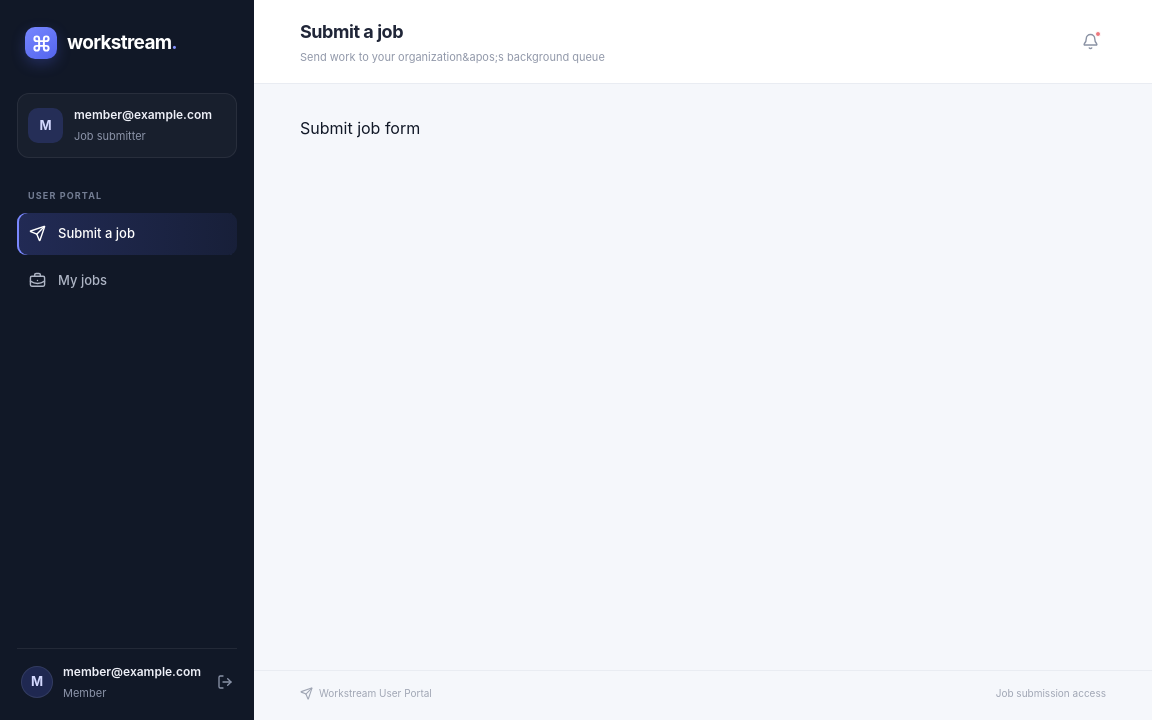
Test: MemberShell completion notifications › shows a completion toast and notification for the job owner only
The image size is (1152, 720).
Click the button named "Notifications".
click(1090, 42)  # box [1074,26,1106,58]
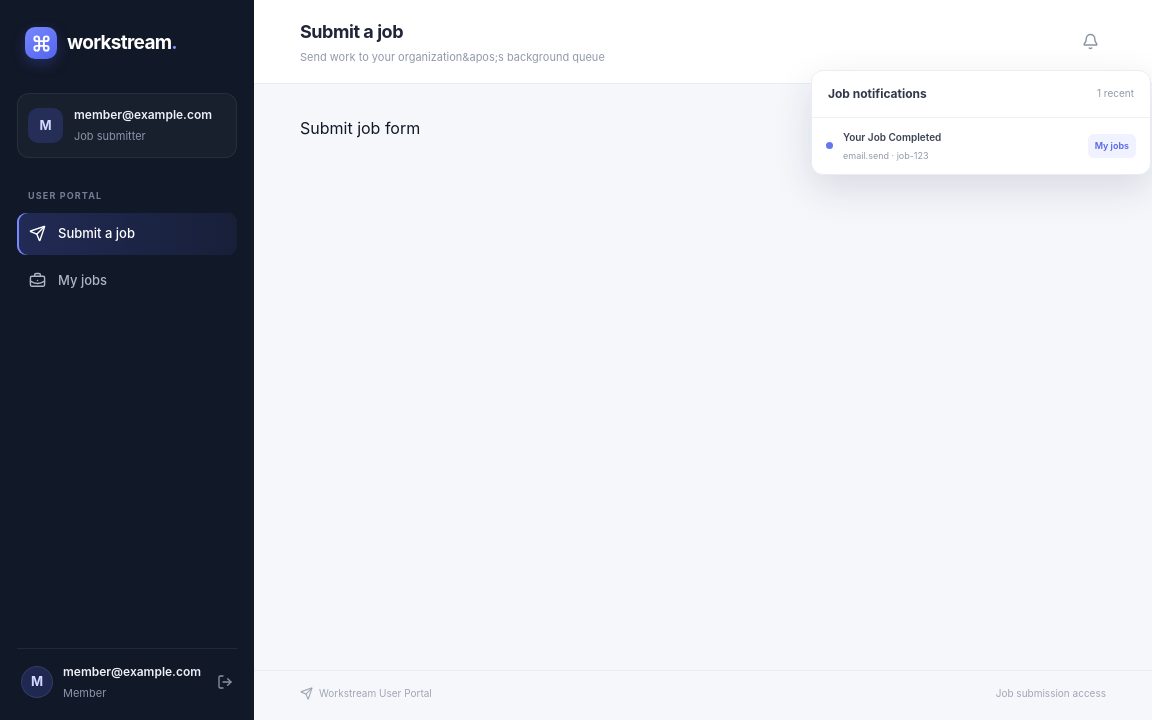
expect the text "Your job completed" is shown: met, box [843,130,941,142]
expect the text "email.send · job-123" is shown: met, box [843,150,929,160]
